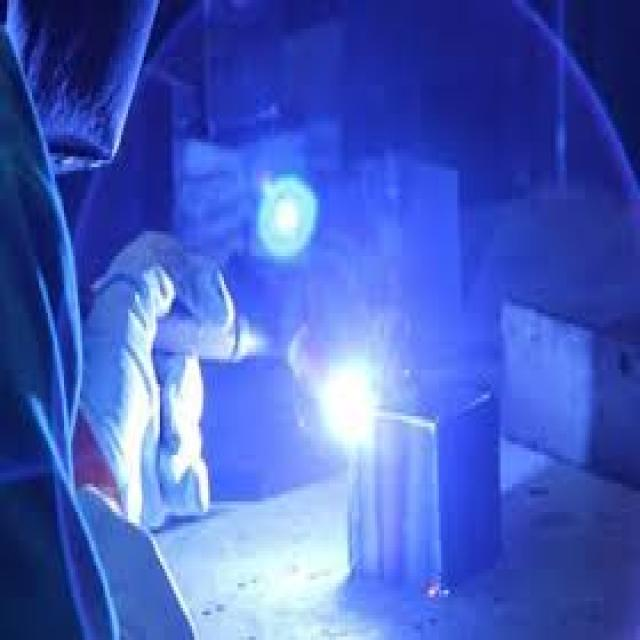welding: (322, 361, 378, 447)
